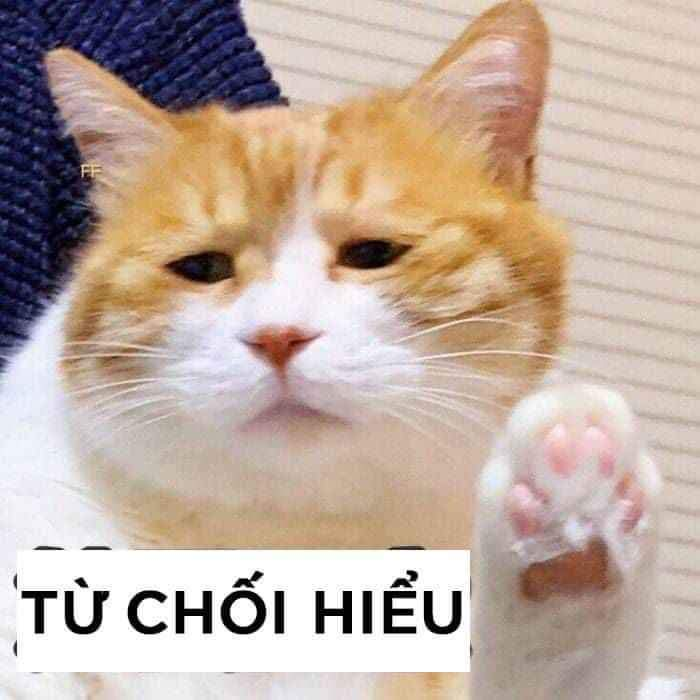cat: (44, 9, 656, 604)
